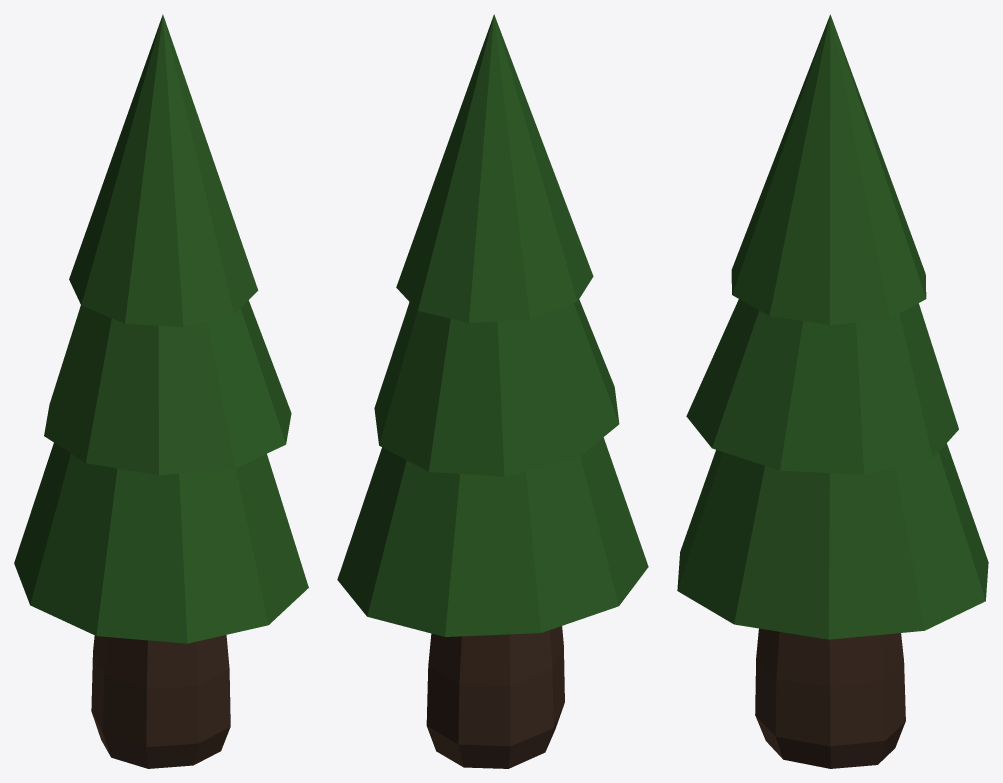
File: pinheiro1.fbx
The picture shows the model from 3 angles, left to right: view 1: azimuth 30°, elevation 25°; view 2: azimuth 150°, elevation 25°; view 3: azimuth 270°, elevation 25°; orthographic projection.
Visible parts, largest first — view 1: Cone.002, Plane; view 2: Cone.002, Plane; view 3: Cone.002, Plane.
Part boxes in pixels (x1,y1,x2,y2): Cone.002: (14, 14, 308, 643); Plane: (91, 635, 230, 768); Cone.002: (337, 14, 648, 636); Plane: (426, 626, 564, 768); Cone.002: (677, 14, 988, 639); Plane: (755, 628, 905, 768).
Size of the model in its own units: 76.81 by 210 by 80.13.
